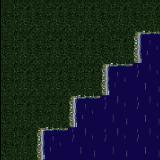Interaction: (27, 113, 49, 160), (49, 112, 86, 136), (129, 20, 160, 47), (93, 48, 118, 81), (86, 82, 118, 104), (64, 82, 86, 113), (118, 48, 150, 68)
Slow: (42, 128, 160, 160), (75, 98, 160, 128), (108, 66, 160, 98), (140, 35, 160, 66)
